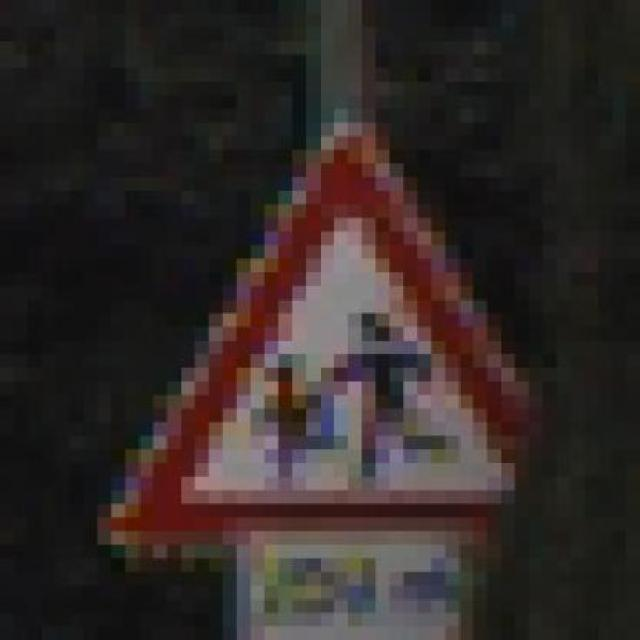Beware of children: (83, 95, 612, 572)
